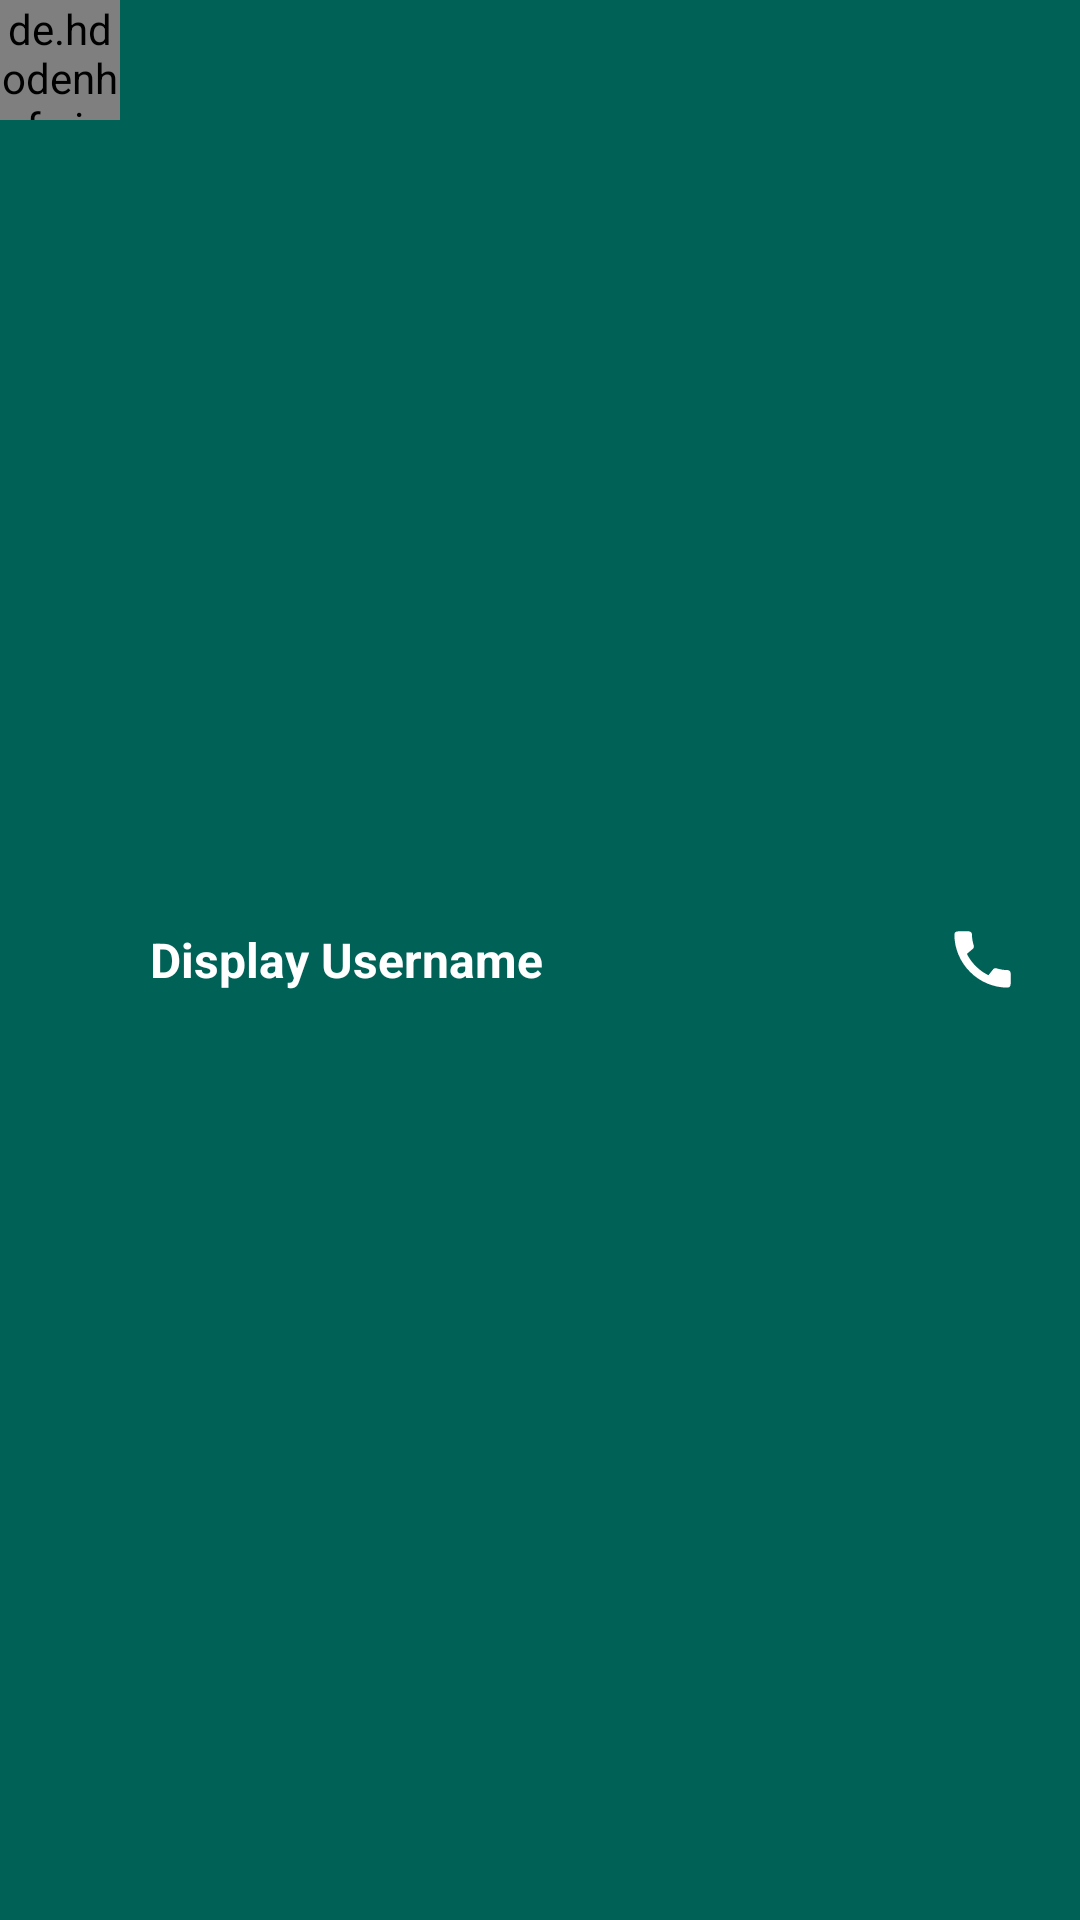

Screen size 1080 x 1920. Icon name, then its box in pixels as (x1, y1, x2, y2):
call: (954, 931, 1011, 988)
